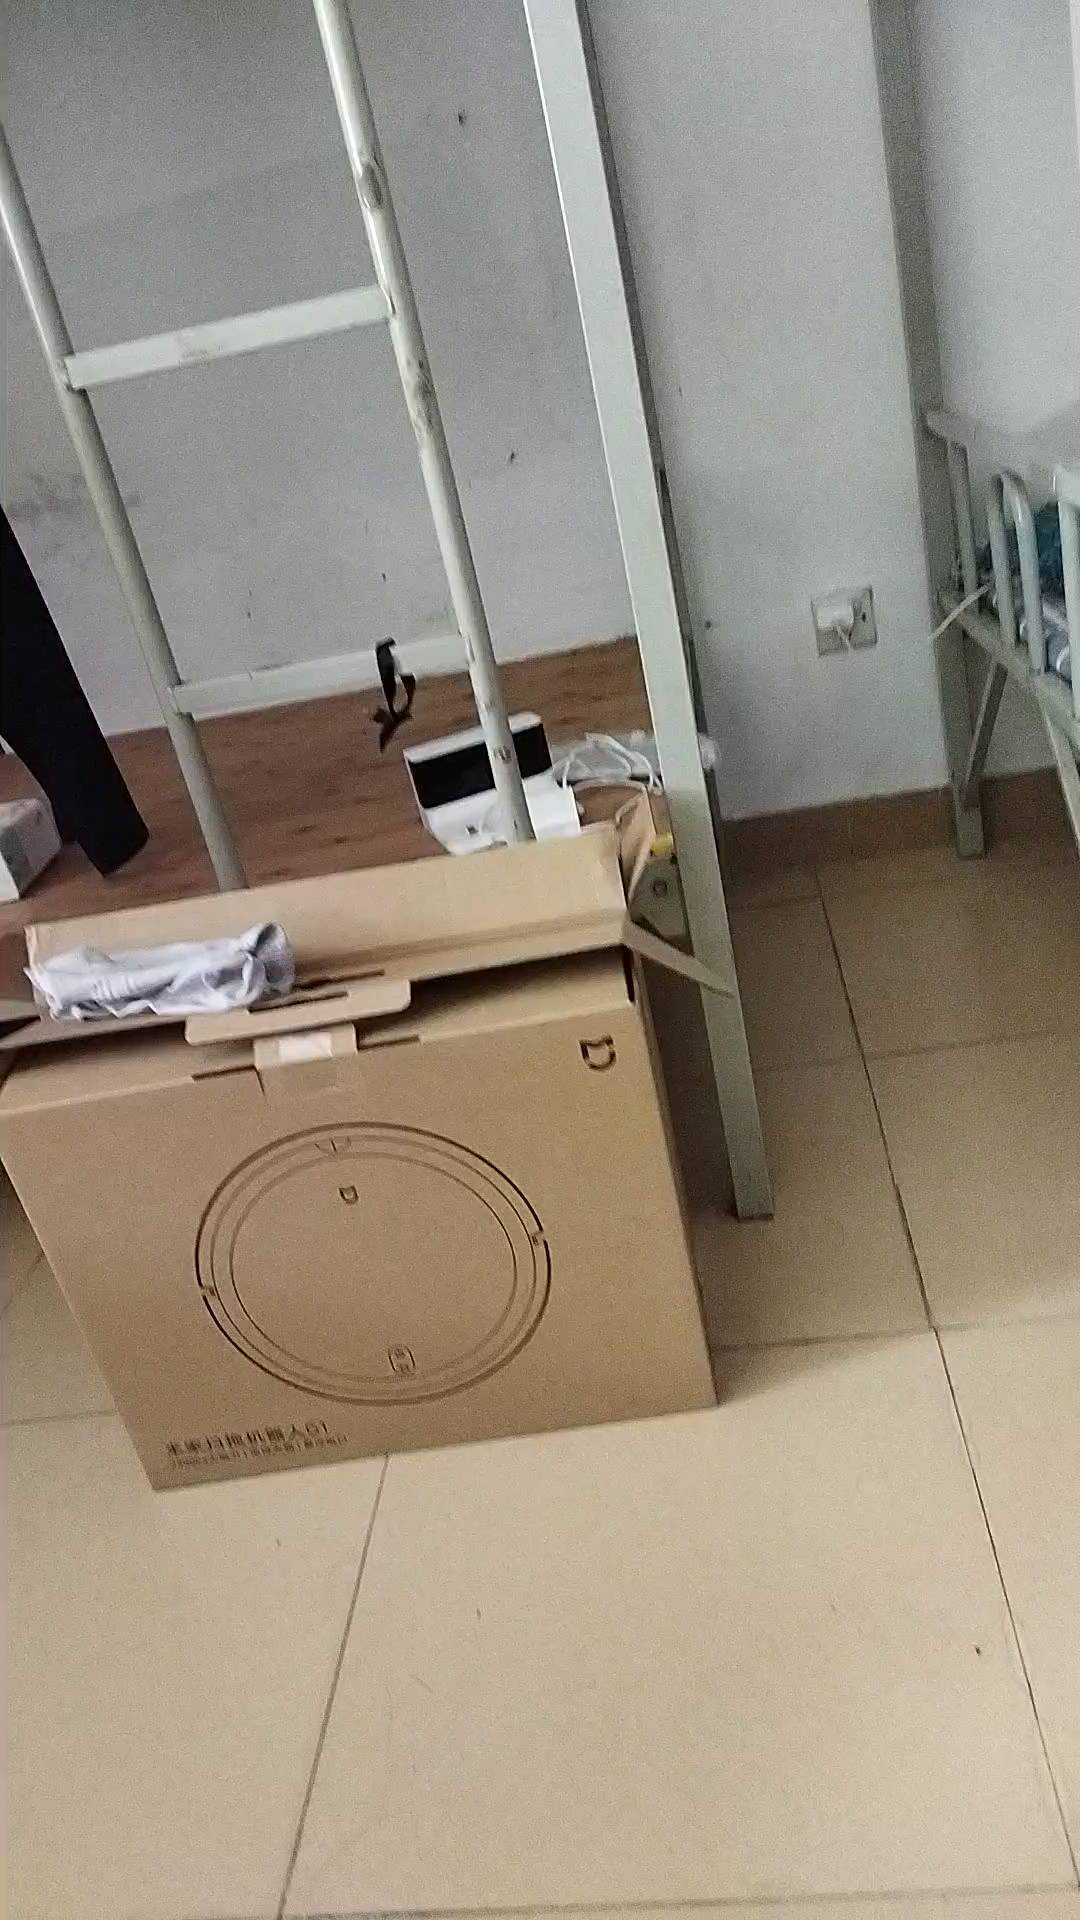recharge seat: (402, 709, 584, 858)
